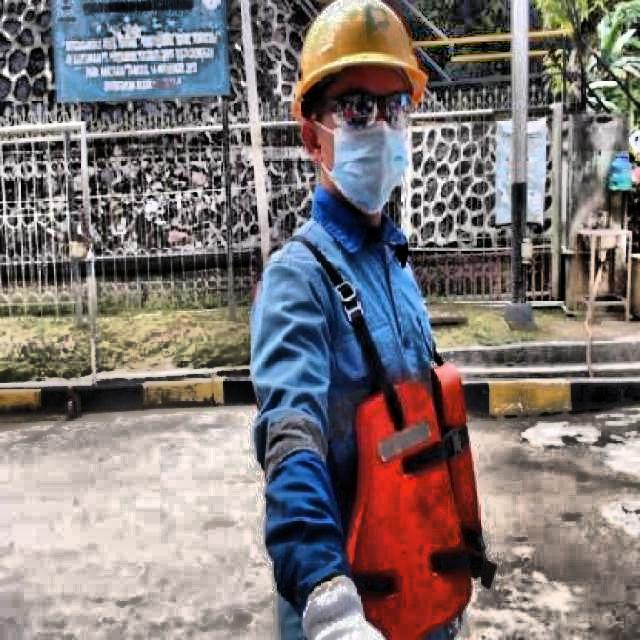safety_helmet: (290, 0, 426, 115)
safety_jacket: (256, 216, 498, 640)
